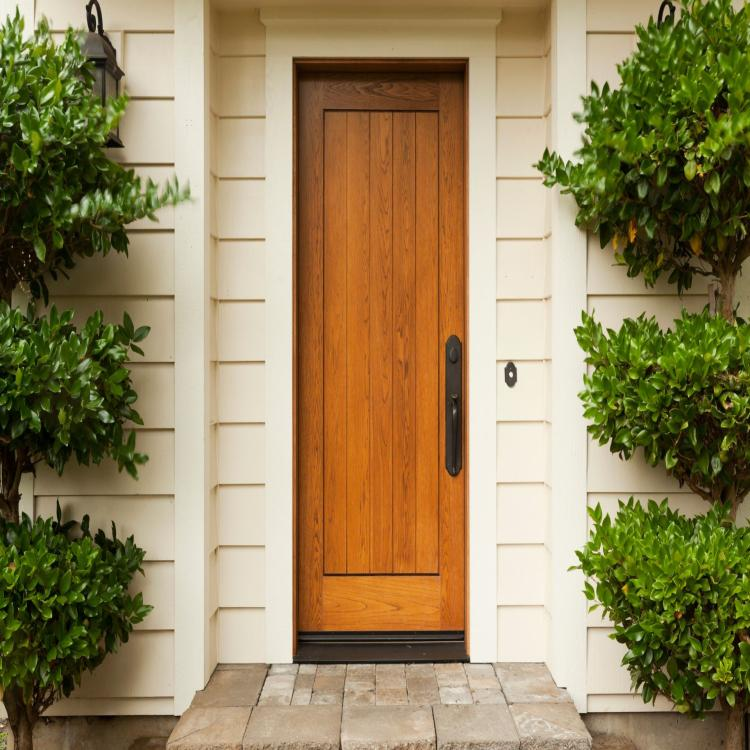ClosedDoor: (287, 50, 478, 668)
